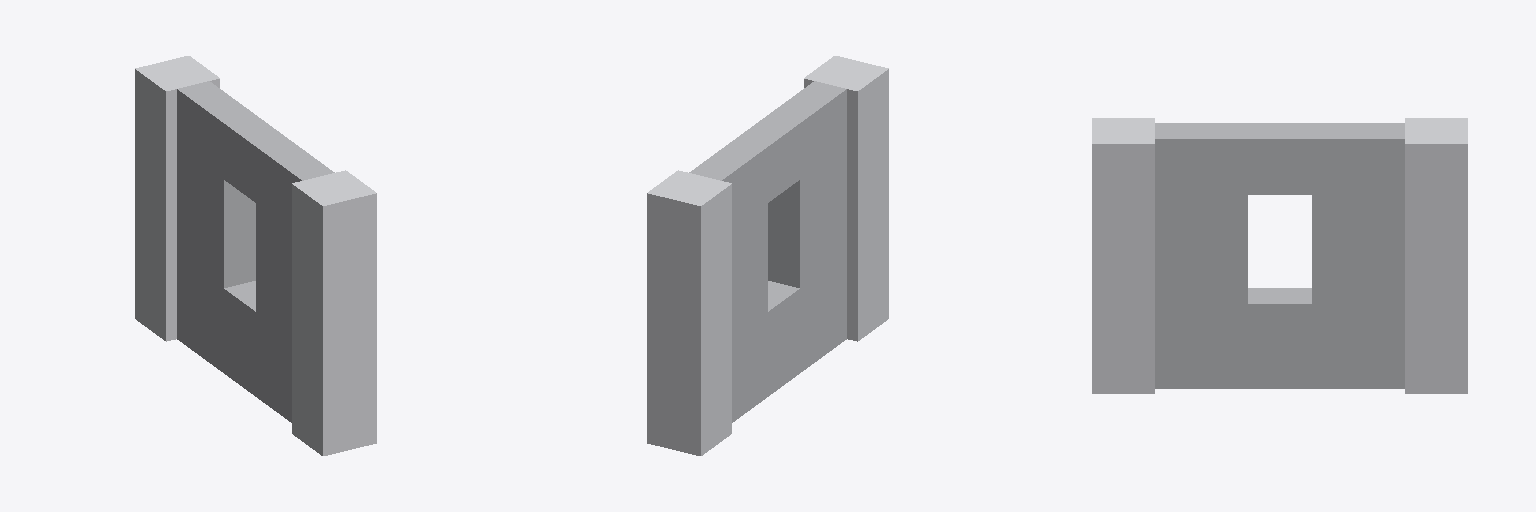
File: Grey_Window_Square_01.obj
3 renders of one model, left to right at view 1: azimuth 30°, elevation 25°; view 2: azimuth 150°, elevation 25°; view 3: azimuth 270°, elevation 25°, orthographic.
Visible parts, largest first — view 1: Mesh1 Grey_Window_Square Model; view 2: Mesh1 Grey_Window_Square Model; view 3: Mesh1 Grey_Window_Square Model.
Boxes of the visible parts, x1,y1,x2,y2 form: Mesh1 Grey_Window_Square Model: [135, 56, 376, 455]; Mesh1 Grey_Window_Square Model: [647, 56, 888, 455]; Mesh1 Grey_Window_Square Model: [1092, 118, 1467, 393].
Size of the model in its own units: 0.5 by 2.2 by 3.